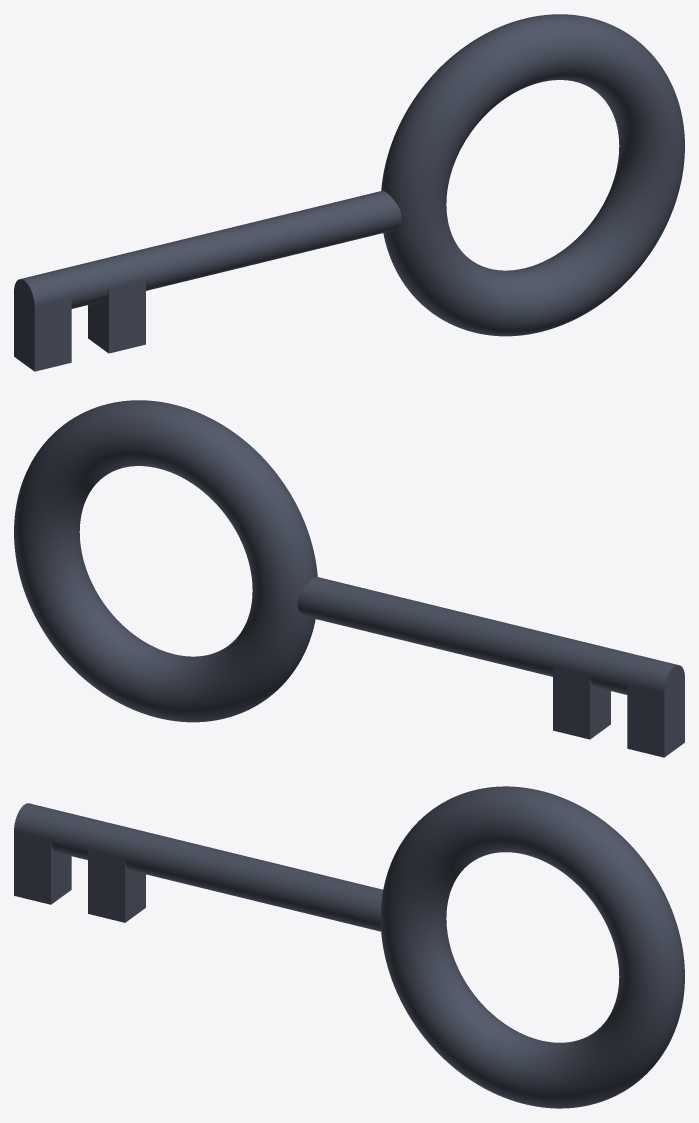
File: Metal key.fbx
3 renders of one model, top to bottom at view 1: azimuth 30°, elevation 25°; view 2: azimuth 150°, elevation 25°; view 3: azimuth 330°, elevation 25°, orthographic.
Visible parts, largest first — view 1: Key; view 2: Key; view 3: Key.
Part boxes in pixels (x1,y1,x2,y2): Key: [14, 14, 684, 371]; Key: [14, 400, 684, 757]; Key: [14, 786, 684, 1108].
Size of the model in its own units: 34.93 by 15.73 by 3.04.
